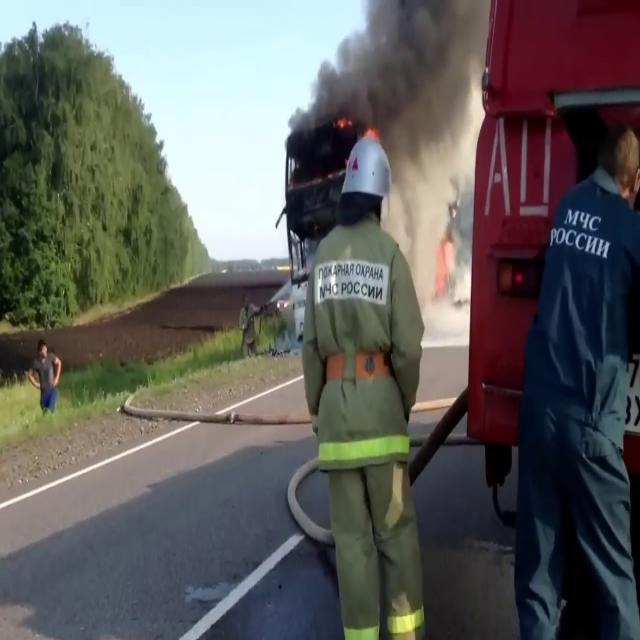Smoke: (290, 1, 480, 168), (386, 127, 468, 309)
